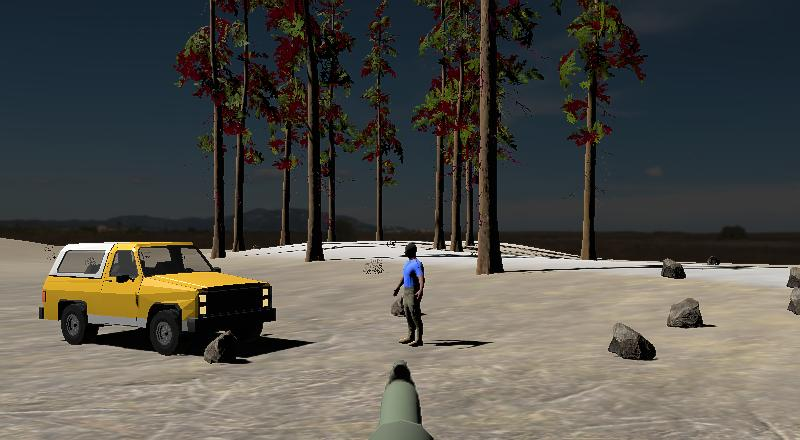Human: (390, 240, 431, 349)
car: (36, 236, 281, 356)
